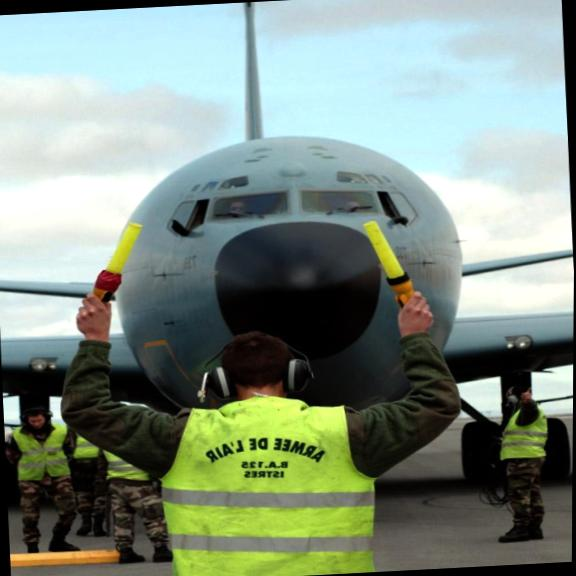safety_vest: (149, 395, 390, 576), (12, 420, 71, 488), (490, 402, 550, 468)
